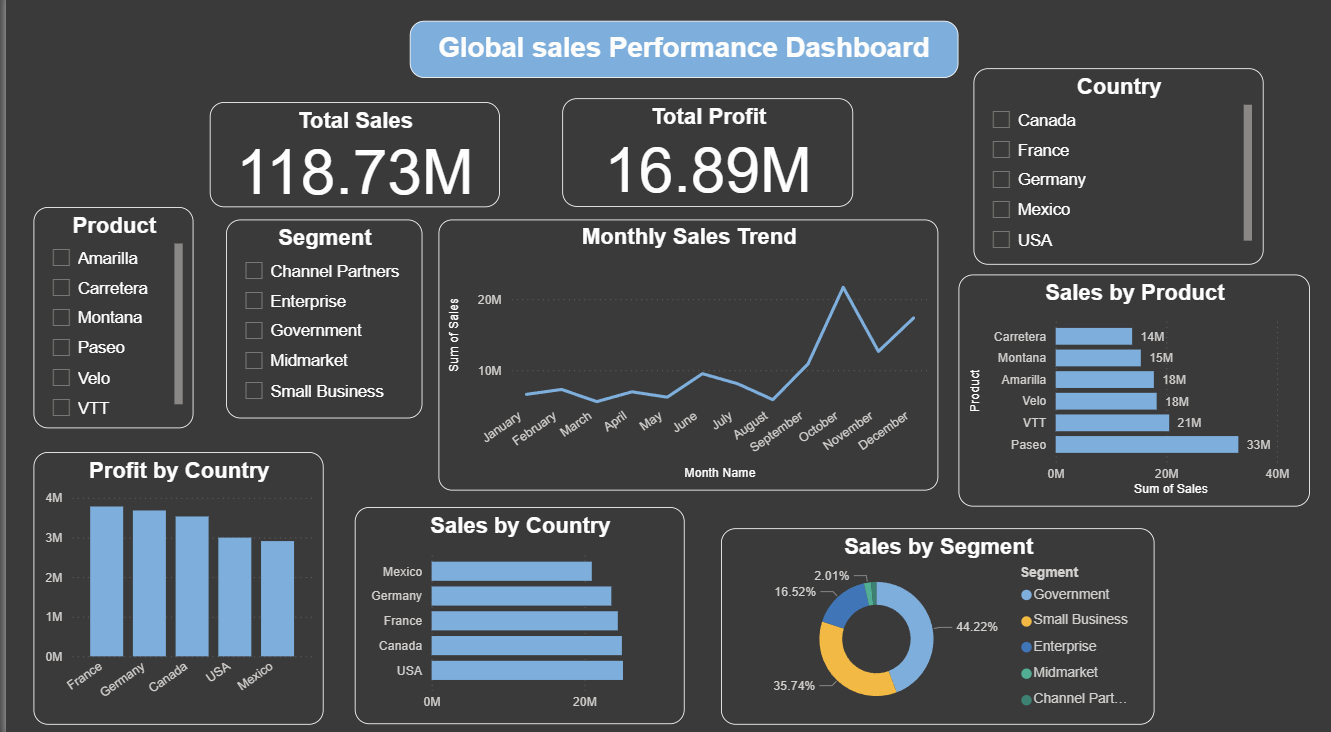

Layout of this report page (visuals, bound fields, positions):
{"tool":"powerbi","page":{"name":"Page 1","canvas":[1280,720],"ordinal":0},"visuals":[{"type":"card","title":"Total Sales","fields":{"Values":["Sum(financials. Sales)"]},"box":[196.6,106.2,279.9,101.3],"z":0},{"type":"textbox","box":[389.7,27.4,529.7,54.9],"z":1000},{"type":"card","title":"Total Profit","fields":{"Values":["Sum(financials.Profit)"]},"box":[536.9,102.5,281.1,105],"z":2000},{"type":"slicer","title":"Product","fields":{"Values":["financials.Product"]},"box":[26.5,207.5,154.4,213.5],"z":3000},{"type":"slicer","title":"Country","fields":{"Values":["financials.Country"]},"box":[933.8,73.6,279.9,189.4],"z":4000},{"type":"slicer","title":"Segment","fields":{"Values":["financials.Segment"]},"box":[212.3,219.6,189.4,191.8],"z":5000},{"type":"donutChart","title":"Sales by Segment","fields":{"Category":["financials.Segment"],"Y":["Sum(financials. Sales)"]},"box":[690.1,517.6,418.6,189.4],"z":6000},{"type":"lineChart","title":"Monthly Sales Trend","fields":{"Category":["financials.Month Name"],"Y":["Sum(financials. Sales)"]},"box":[417.4,219.6,482.6,261.8],"z":7000},{"type":"clusteredColumnChart","title":"Profit by Country","fields":{"Category":["financials.Country"],"Y":["Sum(financials.Profit)"]},"box":[26.5,444,279.9,263],"z":8000},{"type":"clusteredBarChart","title":"Sales by Product","fields":{"Category":["financials.Product"],"Y":["Sum(financials. Sales)"]},"box":[919.3,272.7,339,224.4],"z":9000},{"type":"clusteredBarChart","title":" Sales by Country","fields":{"Category":["financials.Country"],"Y":["Sum(financials. Sales)"]},"box":[336.2,496.7,318.4,209.9],"z":10000}]}

Visuals, with their boxes in screenshot pixels (x1, y1, x2, y2), scaled from the page's 1280x720 canvas onto the 1331x732 screenshot:
"Total Sales" card: x1=204 y1=108 x2=495 y2=211
textbox: x1=405 y1=28 x2=956 y2=84
"Total Profit" card: x1=558 y1=104 x2=851 y2=211
"Product" slicer: x1=28 y1=211 x2=188 y2=428
"Country" slicer: x1=971 y1=75 x2=1262 y2=267
"Segment" slicer: x1=221 y1=223 x2=418 y2=418
"Sales by Segment" donutChart: x1=718 y1=526 x2=1153 y2=719
"Monthly Sales Trend" lineChart: x1=434 y1=223 x2=936 y2=489
"Profit by Country" clusteredColumnChart: x1=28 y1=451 x2=319 y2=719
"Sales by Product" clusteredBarChart: x1=956 y1=277 x2=1308 y2=505
" Sales by Country" clusteredBarChart: x1=350 y1=505 x2=681 y2=718
